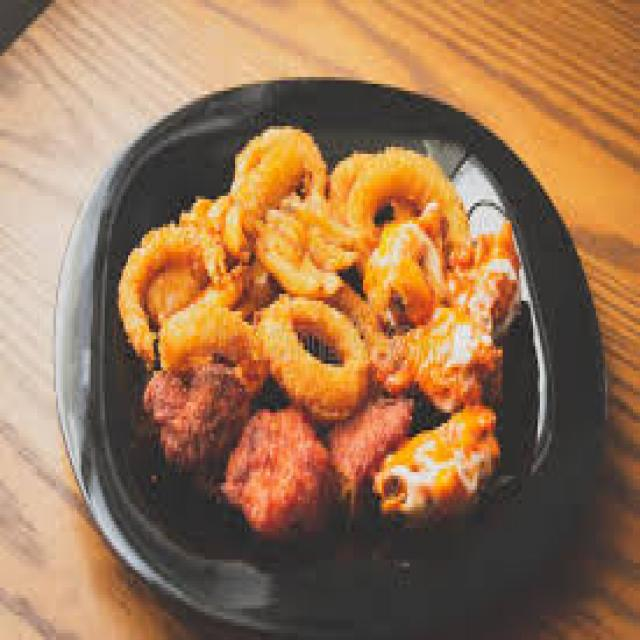Chicken Wings: (133, 353, 400, 518), (372, 238, 526, 514)
Onion Rings: (114, 130, 447, 402)
